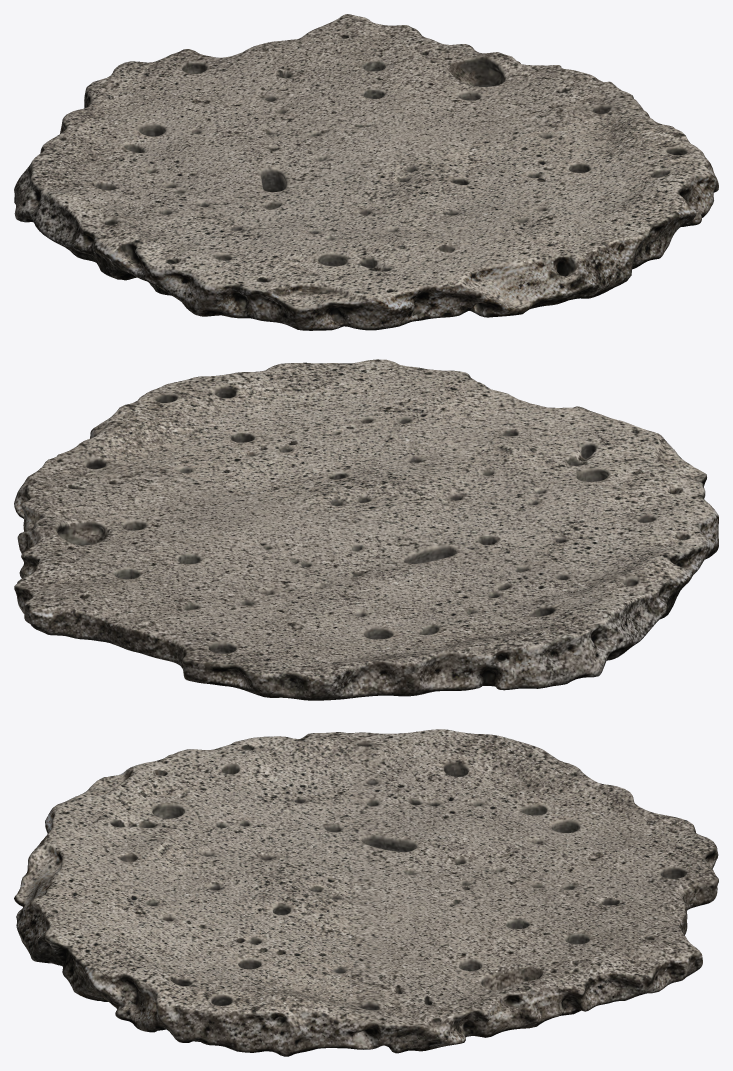
The model's file is stone_flat.glb.
The picture shows the model from 3 angles, top to bottom: view 1: azimuth 30°, elevation 25°; view 2: azimuth 150°, elevation 25°; view 3: azimuth 270°, elevation 25°; orthographic projection. The views are drawn at different scales.
Parts seen in each view (by area): view 1: tripo_node_194eb46e; view 2: tripo_node_194eb46e; view 3: tripo_node_194eb46e.
Boxes of the visible parts, x1,y1,x2,y2 form: tripo_node_194eb46e: (14, 14, 718, 330); tripo_node_194eb46e: (14, 359, 718, 700); tripo_node_194eb46e: (14, 729, 718, 1056).
Size of the model in its own units: 97.18 by 7.3 by 98.29.
1 material, 1 textured.
